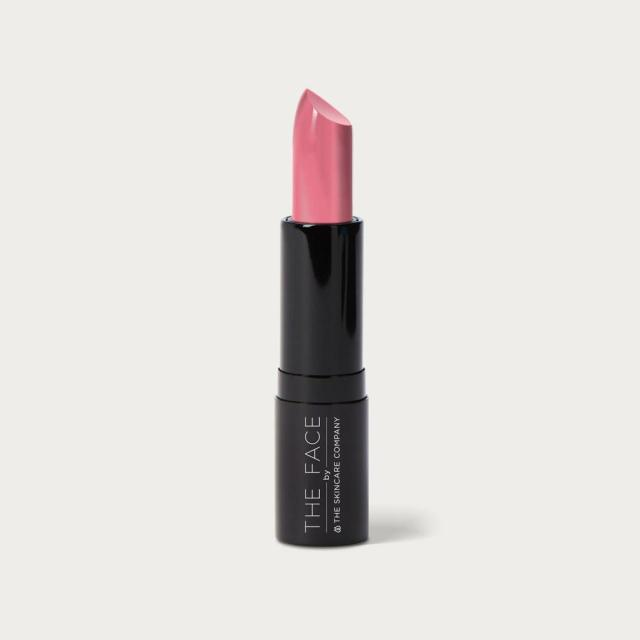lipstick: (235, 72, 411, 551)
